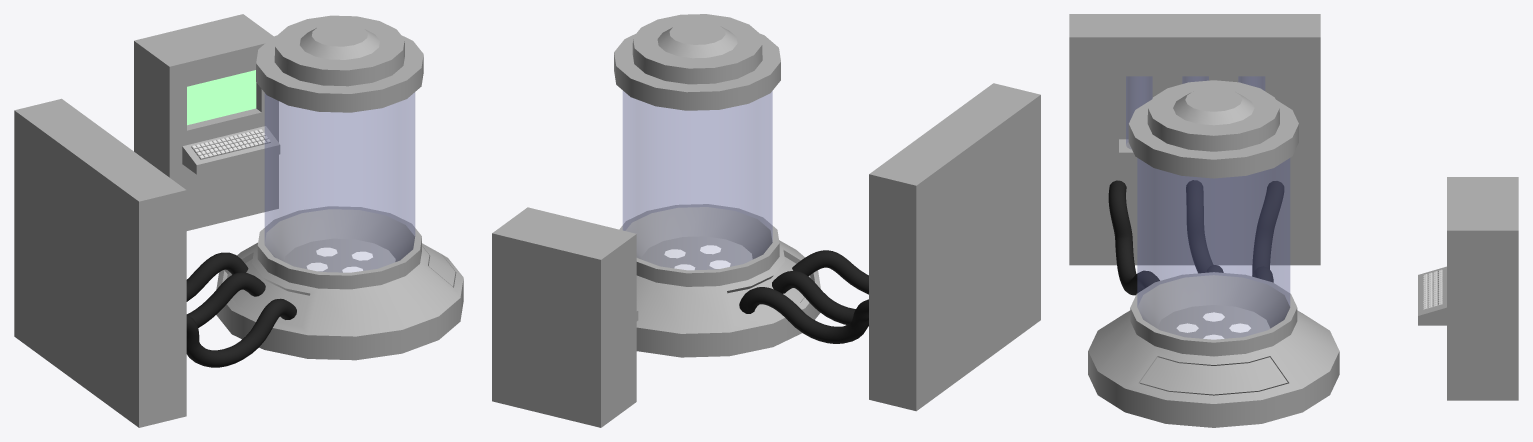
Rendered from newlab.glb.
3 renders of one model, left to right at view 1: azimuth 30°, elevation 25°; view 2: azimuth 150°, elevation 25°; view 3: azimuth 270°, elevation 25°, orthographic.
Visible parts, largest first — view 1: Circle, Cube.002, Cube, BezierCurve, Cube.001, Circle.003; view 2: Circle, Cube.002, Cube, BezierCurve, Circle.003; view 3: Circle, Cube.002, Cube, BezierCurve, Circle.002, Cube.001, Circle.003.
Boxes of the visible parts, <box> form: Circle: <box>216,15,463,360</box>; Cube.002: <box>14,98,186,427</box>; Cube: <box>134,14,280,230</box>; BezierCurve: <box>186,252,296,367</box>; Cube.001: <box>191,129,270,159</box>; Circle.003: <box>306,247,372,272</box>; Circle: <box>614,14,820,357</box>; Cube.002: <box>869,83,1040,411</box>; Cube: <box>492,207,638,427</box>; BezierCurve: <box>739,250,868,343</box>; Circle.003: <box>664,245,730,270</box>; Circle: <box>1088,80,1339,427</box>; Cube.002: <box>1069,14,1320,265</box>; Cube: <box>1418,177,1518,400</box>; BezierCurve: <box>1108,180,1284,295</box>; Circle.002: <box>1126,76,1264,149</box>; Cube.001: <box>1423,269,1442,310</box>; Circle.003: <box>1176,312,1250,339</box>.
Bounding box in the file's own units: 4.31 × 2.97 × 4.38.
